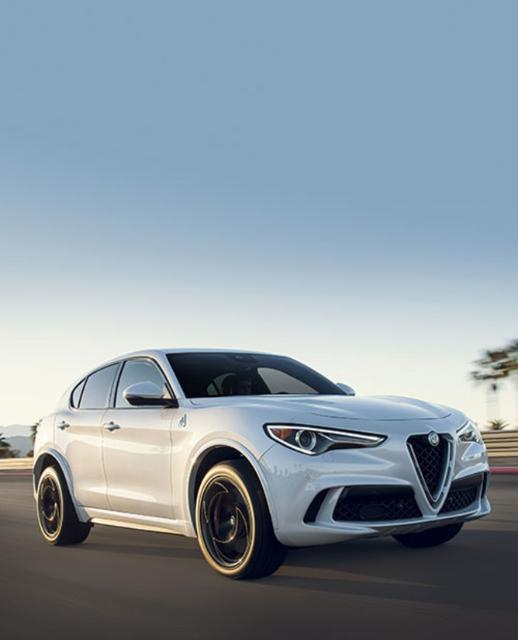alpha-romeo: (31, 347, 493, 583)
